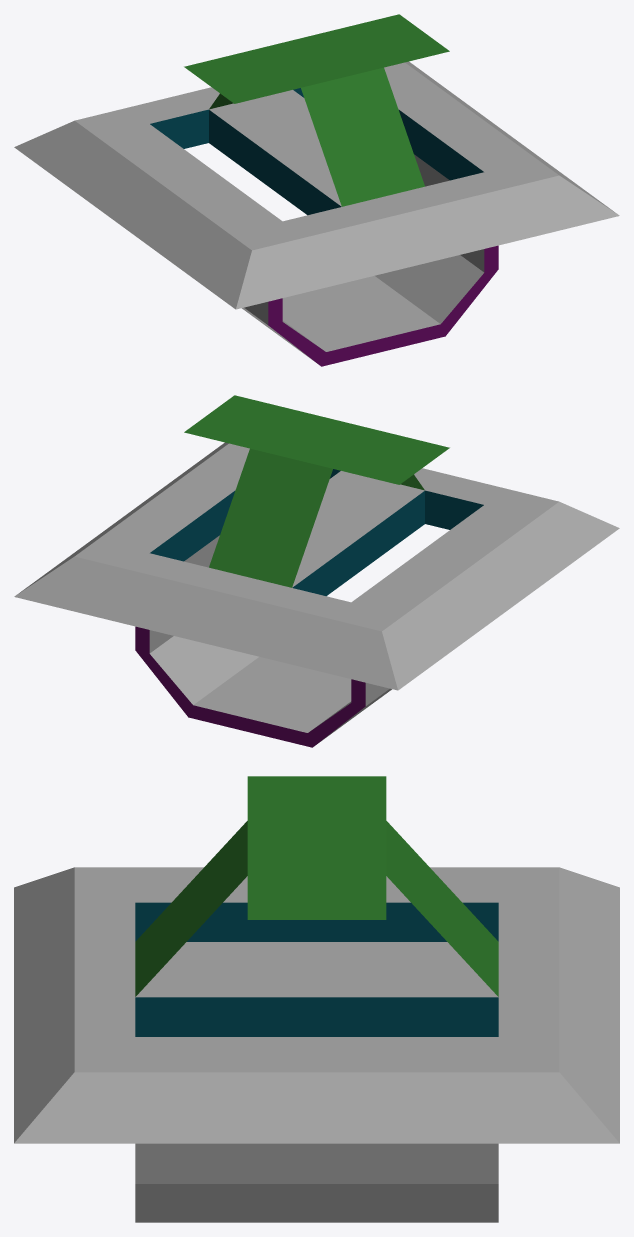
Rendered from float01.obj.
3 views of the same model, one above another, from view 1: azimuth 30°, elevation 25°; view 2: azimuth 150°, elevation 25°; view 3: azimuth 270°, elevation 25° (orthographic). The views are drawn at different scales.
Parts seen in each view (by area): view 1: Cube.017_Cube.000; view 2: Cube.017_Cube.000; view 3: Cube.017_Cube.000.
Boxes of the visible parts, <box> form: Cube.017_Cube.000: <box>14,14,619,366</box>; Cube.017_Cube.000: <box>14,395,619,747</box>; Cube.017_Cube.000: <box>14,776,619,1222</box>.
Size of the model in its own units: 240 by 146 by 240.
